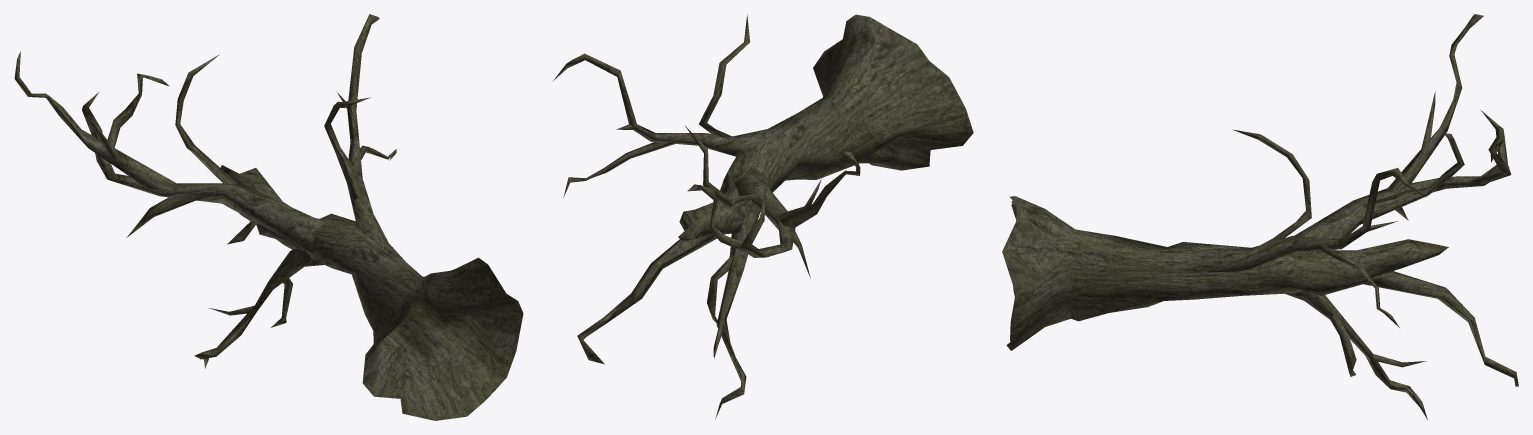
File: TI_Old_Tree_03_LOD_02.fbx
3 renders of one model, left to right at view 1: azimuth 30°, elevation 25°; view 2: azimuth 150°, elevation 25°; view 3: azimuth 270°, elevation 25°, orthographic. The views are drawn at different scales.
Parts seen in each view (by area): view 1: TI_Old_Tree_03_LOD_02; view 2: TI_Old_Tree_03_LOD_02; view 3: TI_Old_Tree_03_LOD_02.
Part boxes in pixels (x1,y1,x2,y2): TI_Old_Tree_03_LOD_02: [14, 14, 523, 420]; TI_Old_Tree_03_LOD_02: [553, 14, 973, 419]; TI_Old_Tree_03_LOD_02: [1002, 14, 1518, 419].
Size of the model in its own units: 8 by 7.52 by 10.67.
